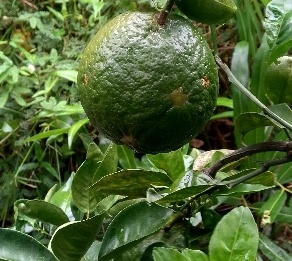Cam: (75, 9, 222, 154)
